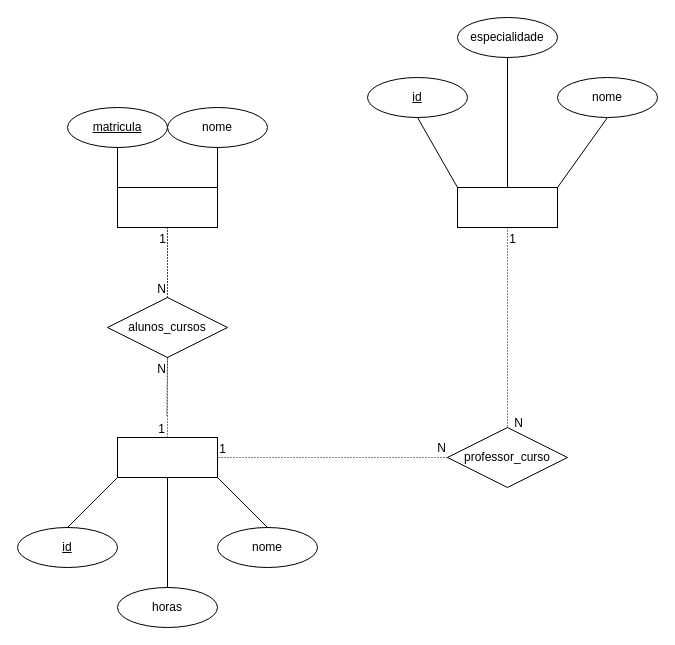
Image size: 675x645. Some labels were removed from this diagram. Each missing label, with the centre of its shape:
"alunos" goes at point 167,207.
"cursos" goes at point 167,457.
"professores" goes at point 507,207.
